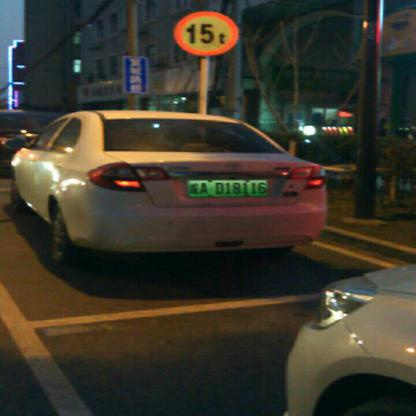lp: (188, 178, 267, 197)
